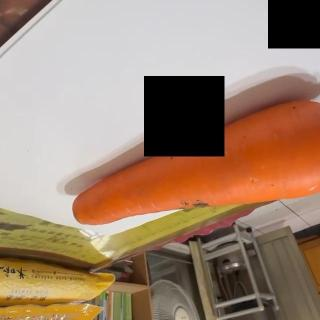carrot: (69, 101, 320, 229)
